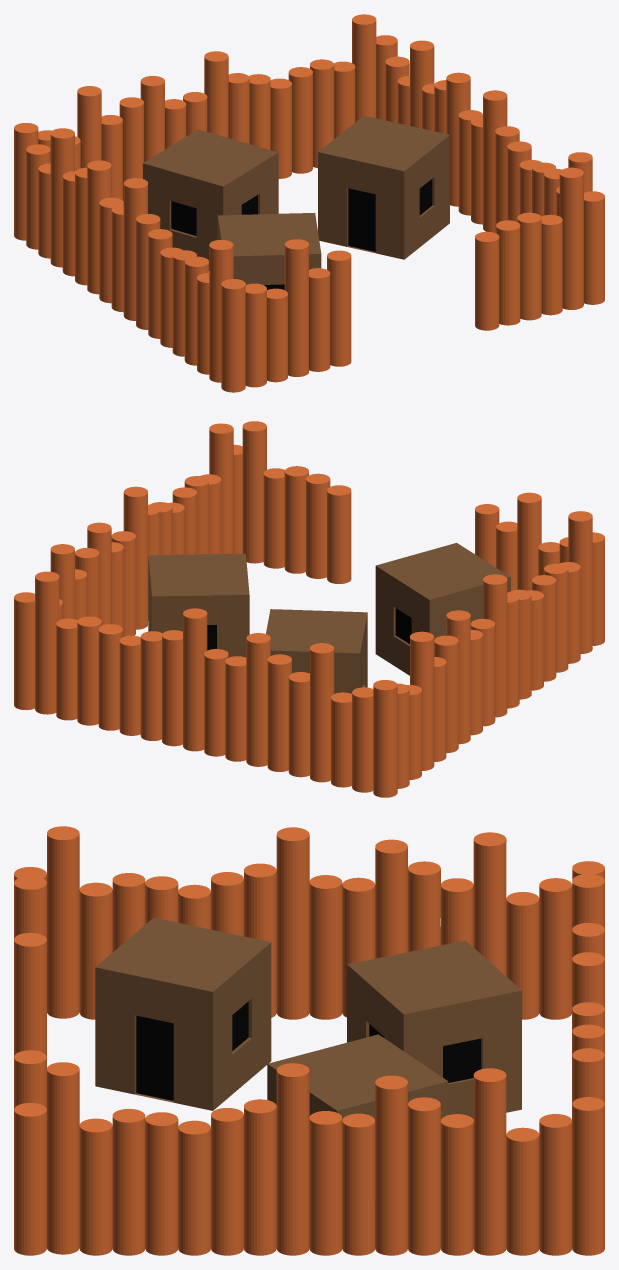
The model's file is Village.fbx.
3 views of the same model, one above another, from view 1: azimuth 30°, elevation 25°; view 2: azimuth 150°, elevation 25°; view 3: azimuth 270°, elevation 25° (orthographic). The views are drawn at different scales.
Parts seen in each view (by area): view 1: Village; view 2: Village; view 3: Village.
Boxes of the visible parts, x1=… form: Village: x1=14, y1=14, x2=604, y2=392; Village: x1=14, y1=421, x2=604, y2=797; Village: x1=14, y1=826, x2=604, y2=1255.
Size of the model in its own units: 180 by 60.37 by 180.
